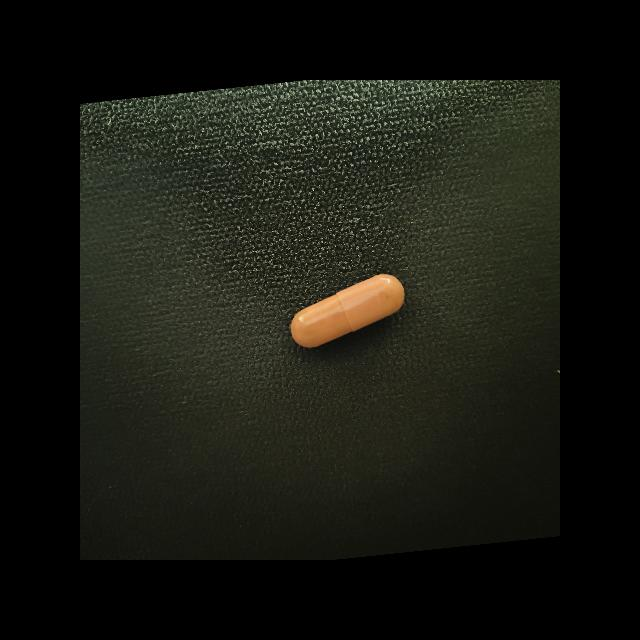Intact Capsule: (291, 274, 404, 347)
